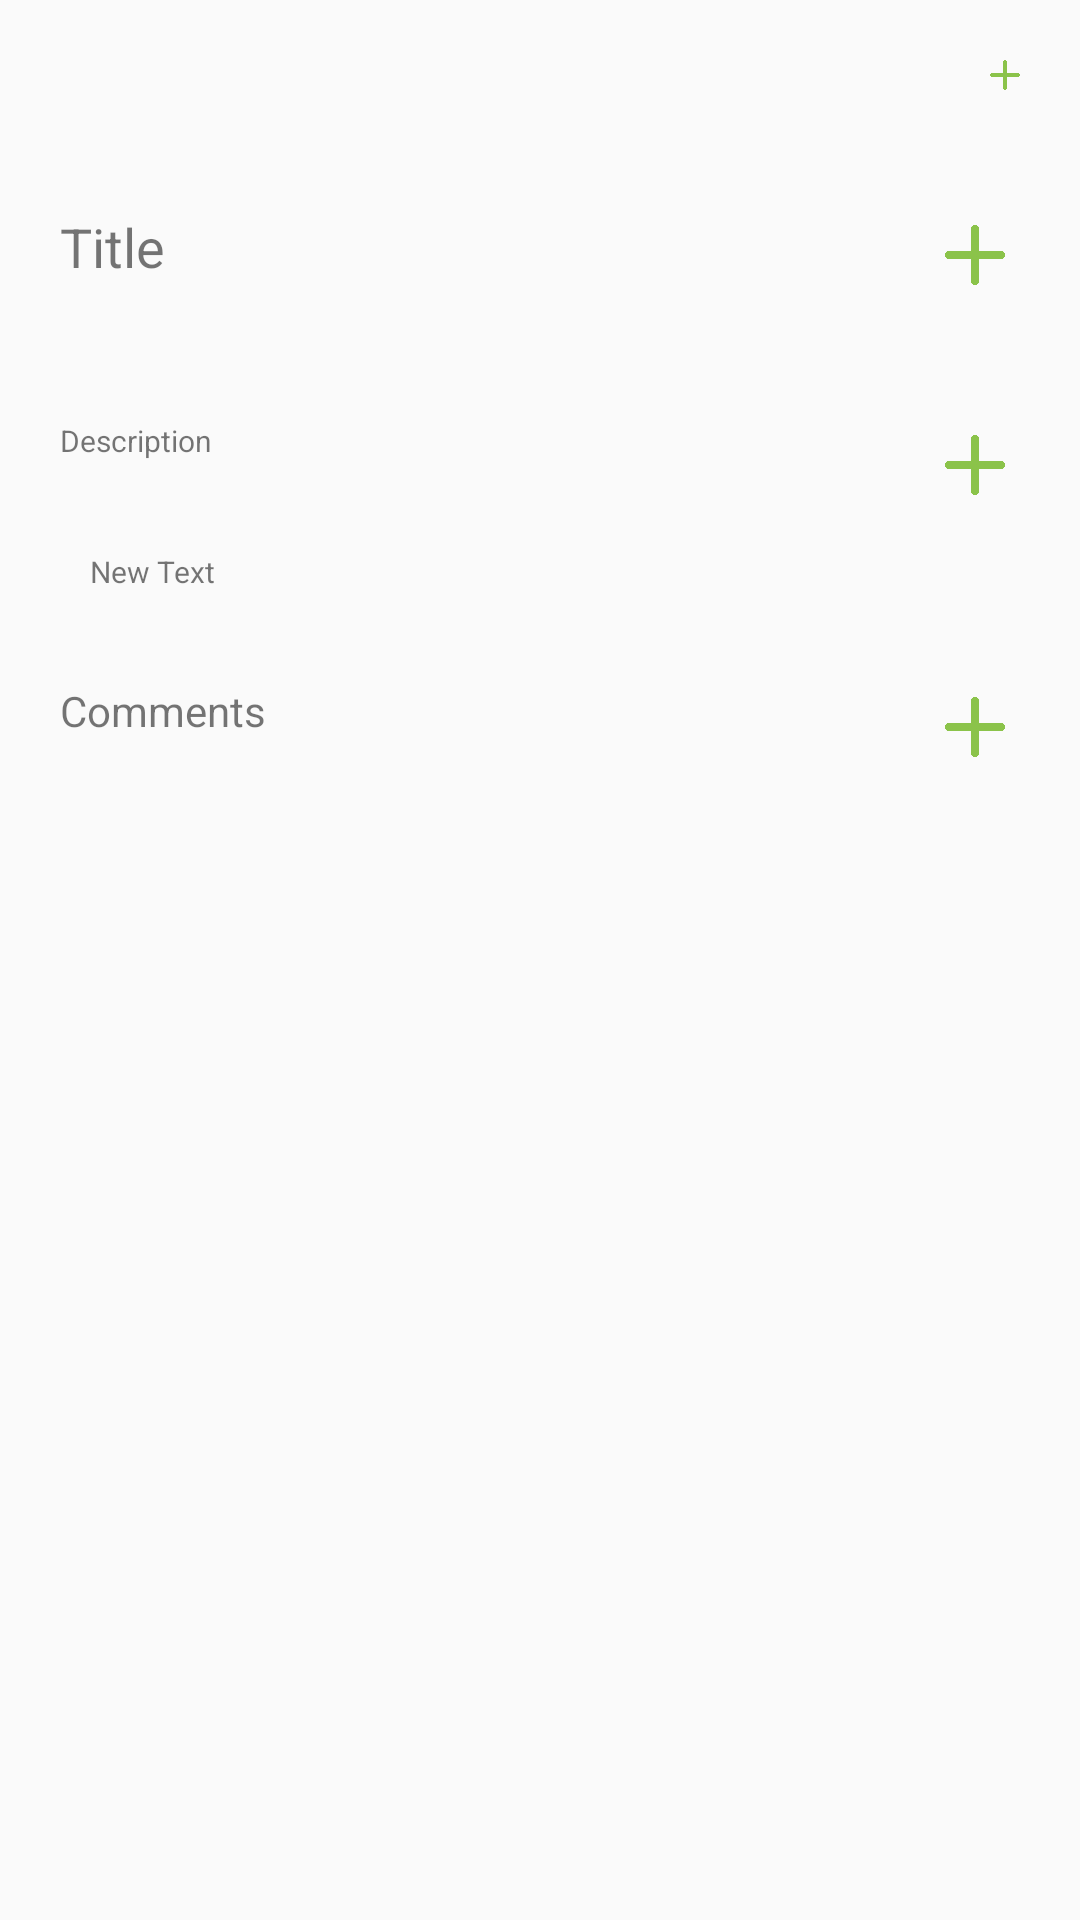

Locate icon controls on the screen. Image size 1080*1920, boxes as bbox=[x1, y1, x2, y2].
add: bbox=[990, 60, 1020, 90], bbox=[945, 225, 1005, 285], bbox=[945, 435, 1005, 495], bbox=[945, 697, 1005, 757]
